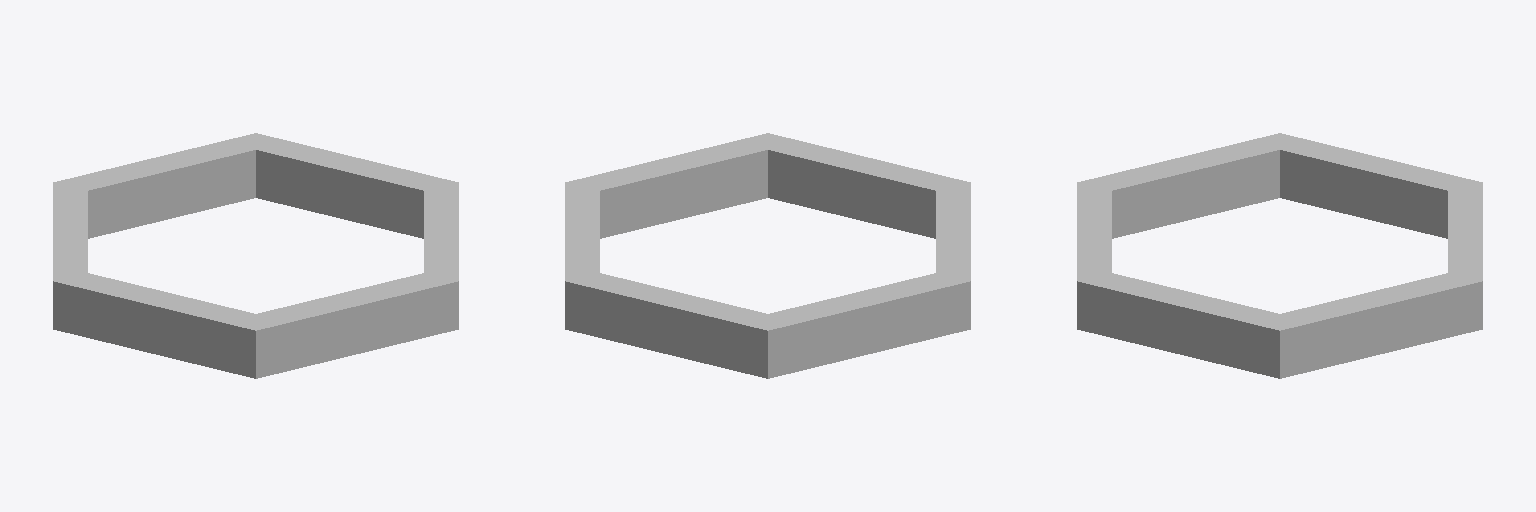
Rendered from hexagon.obj.
3 views of the same model, side by side, from view 1: azimuth 30°, elevation 25°; view 2: azimuth 150°, elevation 25°; view 3: azimuth 270°, elevation 25° (orthographic).
Visible parts, largest first — view 1: Circle.004_Circle.009; view 2: Circle.004_Circle.009; view 3: Circle.004_Circle.009.
Boxes of the visible parts, <box> form: Circle.004_Circle.009: <box>53,133,458,378</box>; Circle.004_Circle.009: <box>565,133,970,378</box>; Circle.004_Circle.009: <box>1077,133,1482,378</box>.
Size of the model in its own units: 1.76 by 0.2 by 1.52.